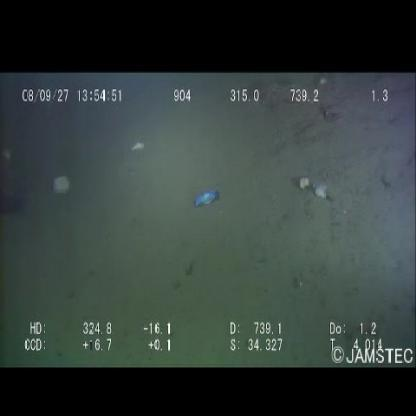Rác: (188, 184, 225, 218)
